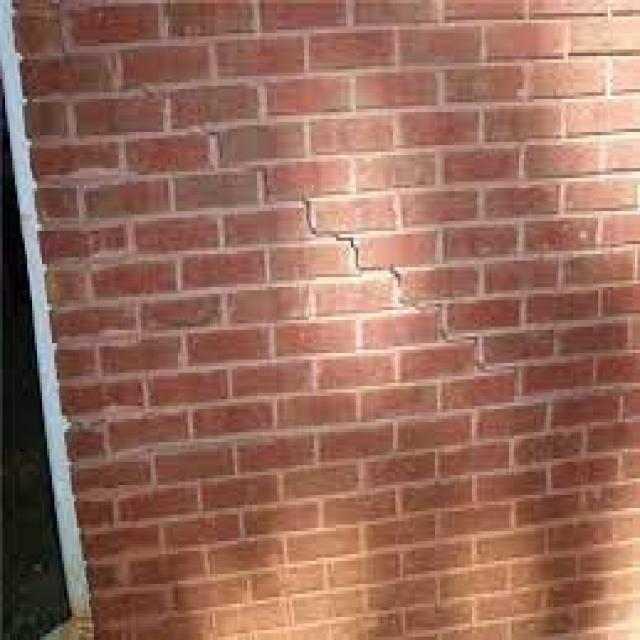Crack: (54, 6, 514, 372)
